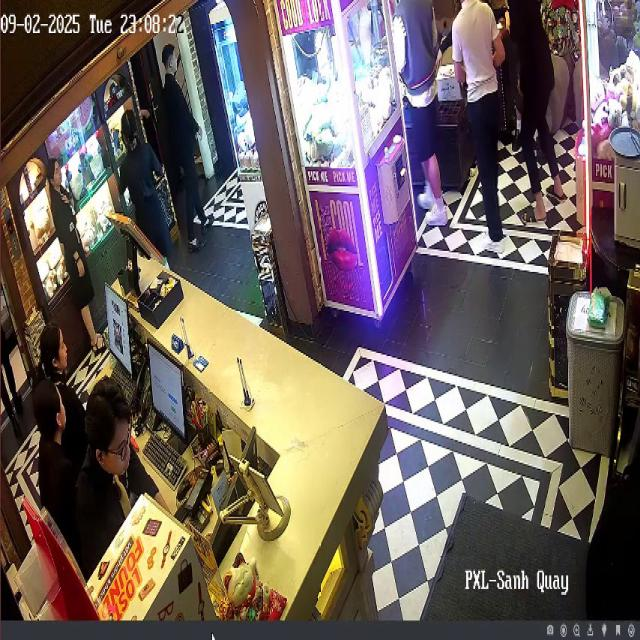khach: (449, 0, 508, 255), (509, 0, 568, 246), (390, 0, 450, 236)
nhan vien: (107, 96, 190, 272), (76, 371, 137, 601), (45, 152, 109, 356), (158, 30, 215, 250), (24, 378, 74, 540), (33, 298, 83, 438)
